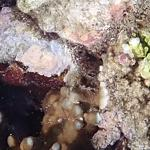dead: (1, 4, 149, 148)
